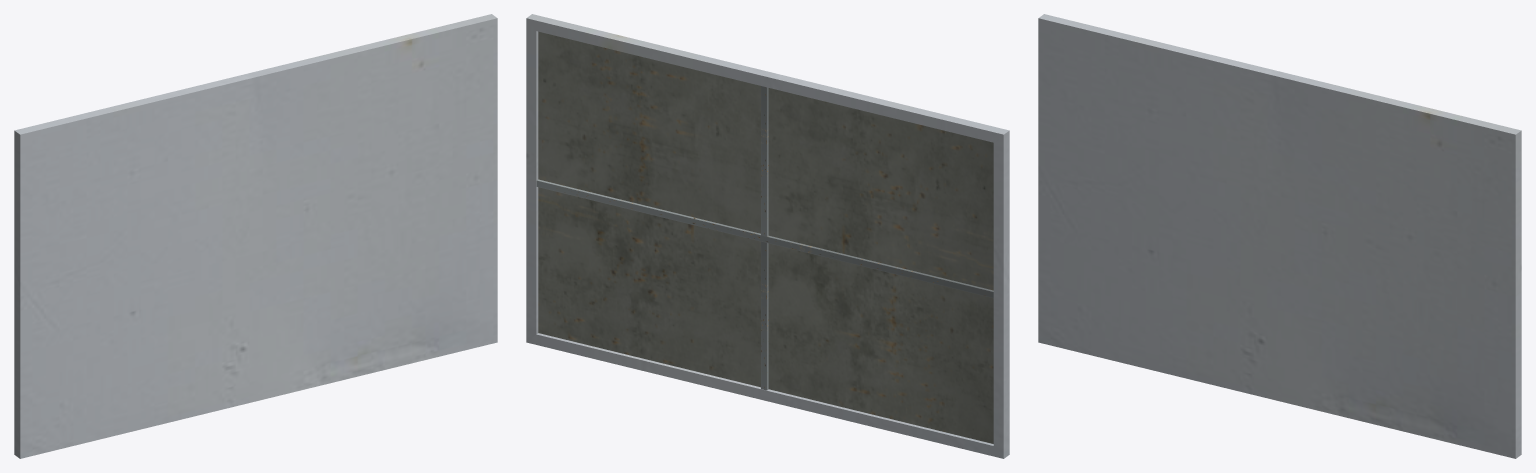
Rendered from signboardblank1a.fbx.
3 views of the same model, side by side, from view 1: azimuth 30°, elevation 25°; view 2: azimuth 150°, elevation 25°; view 3: azimuth 330°, elevation 25° (orthographic).
Visible parts, largest first — view 1: signboardblank1a; view 2: signboardblank1a; view 3: signboardblank1a.
Part boxes in pixels (bbox=[...]): signboardblank1a: bbox=[14, 14, 497, 458]; signboardblank1a: bbox=[526, 14, 1009, 458]; signboardblank1a: bbox=[1038, 14, 1521, 458].
Size of the model in its own units: 135 by 87.42 by 2.82.
